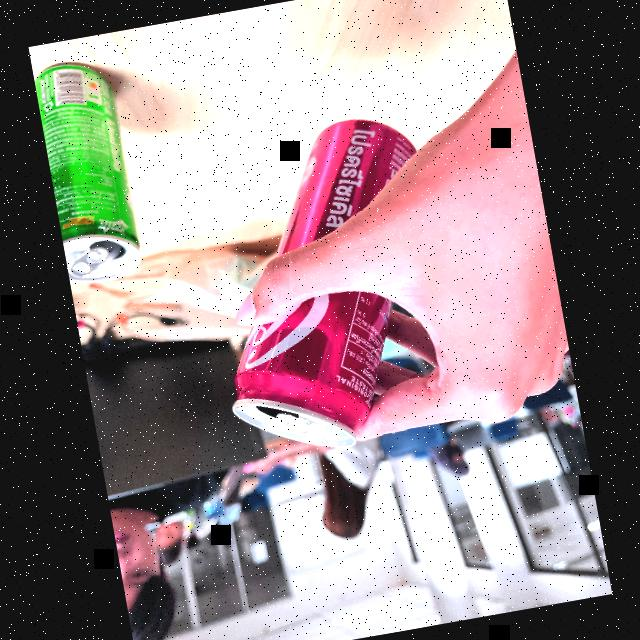can: (178, 105, 482, 479), (33, 56, 152, 295)
